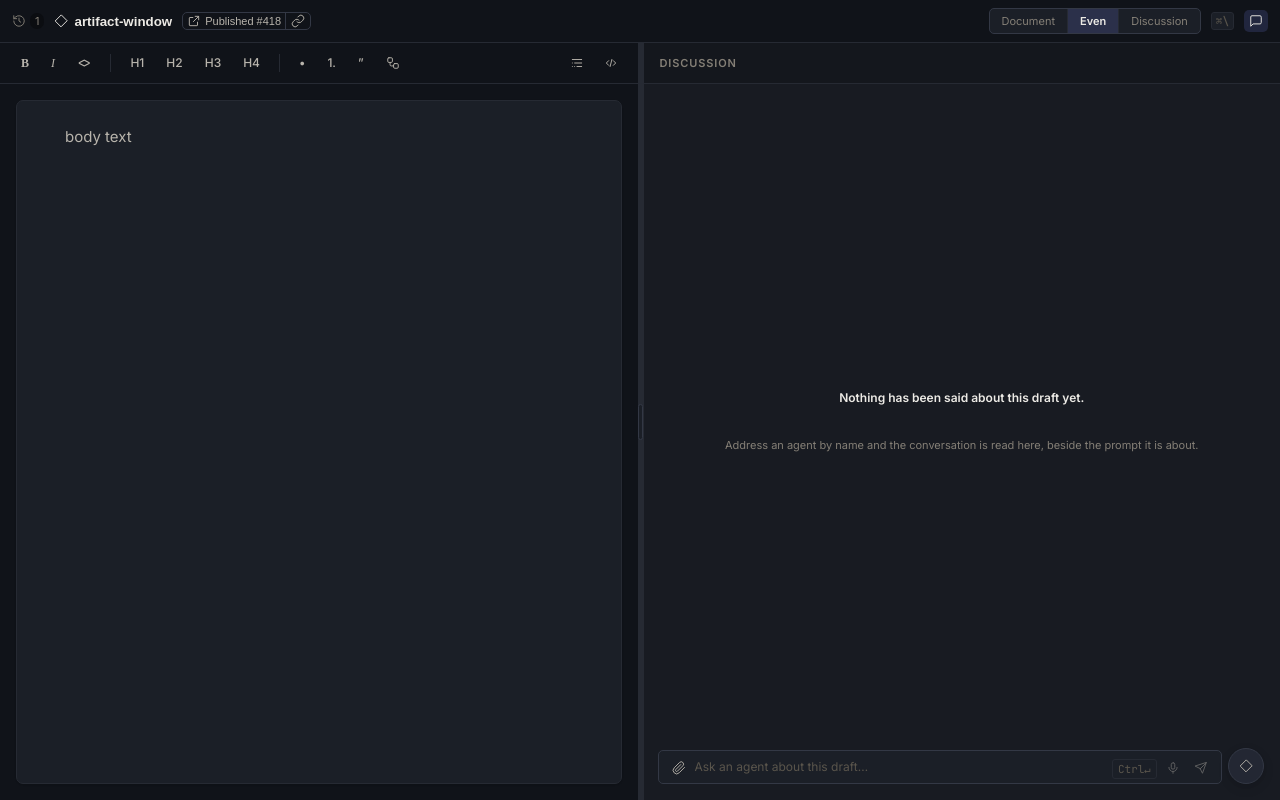
it: New Artifact workspace — Update on GitHub › NAW-FR-HKYL: the entry is disabled with the read's reason while the draft is not publishable or an attempt stands
Expected: the button with test id "draft-publication-tag" is shown, [183,13,285,29]
Click the button named "Draft actions" at (1246, 766), box [1228,748,1264,784]
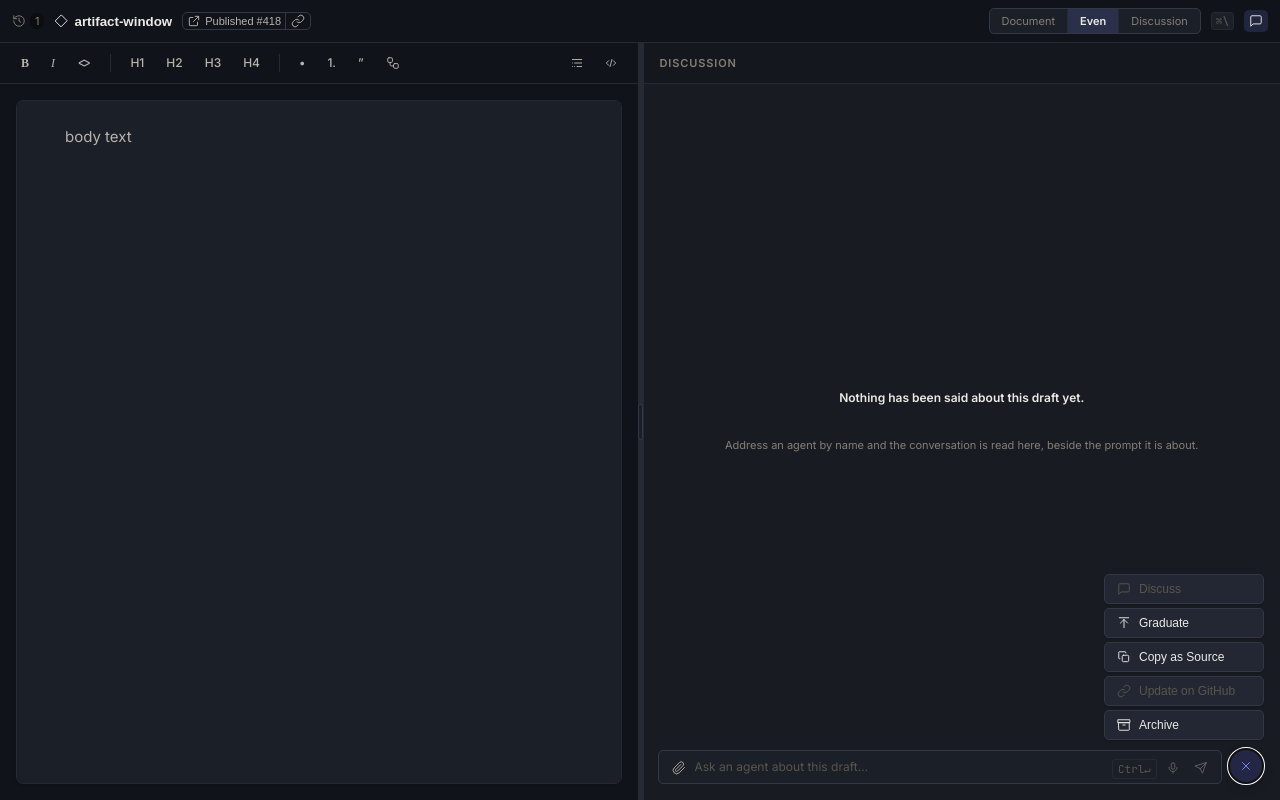
Expected: the menu item "Update on GitHub" is disabled, [1104,676,1264,706]
